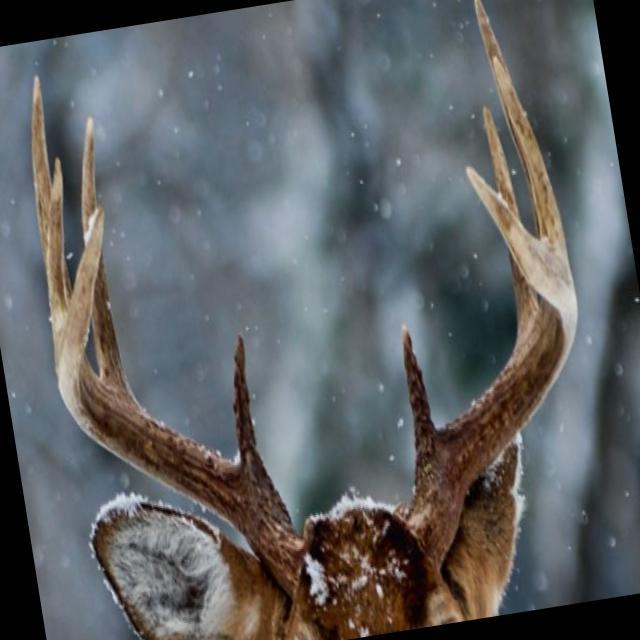L-F: (409, 164, 578, 570)
L-G1: (402, 324, 441, 472)
R-F: (56, 205, 304, 602)
R-G1: (232, 334, 271, 480)
